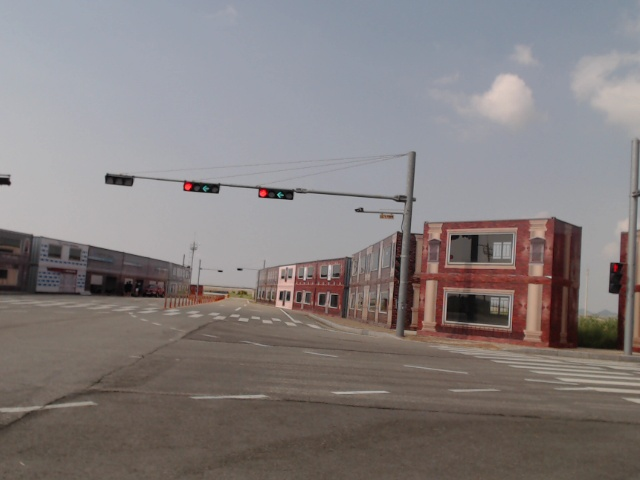left_green_4: (259, 188, 293, 200), (184, 182, 219, 193)
